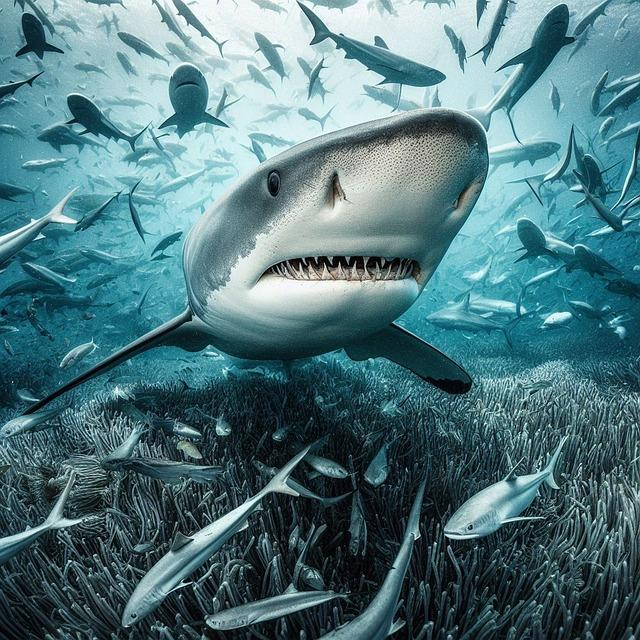Carnivorous: (132, 109, 491, 397)
